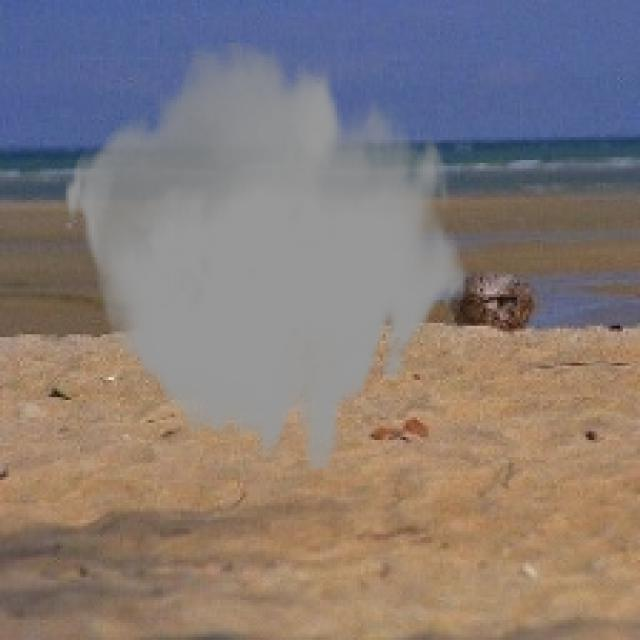smoke: (63, 43, 468, 468)
